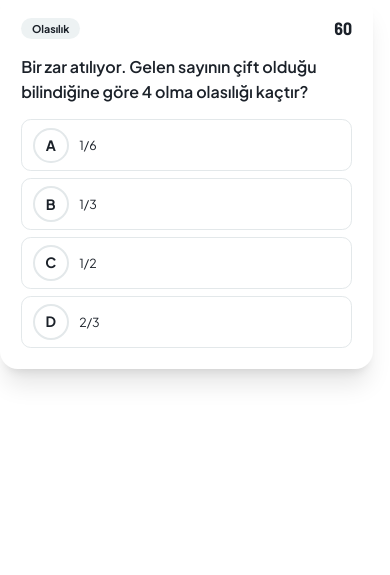
Test: MicroQuizPanel › marks a wrong choice and the correct option
Click the button "D 2/3": (51, 322) [21,296,352,348]
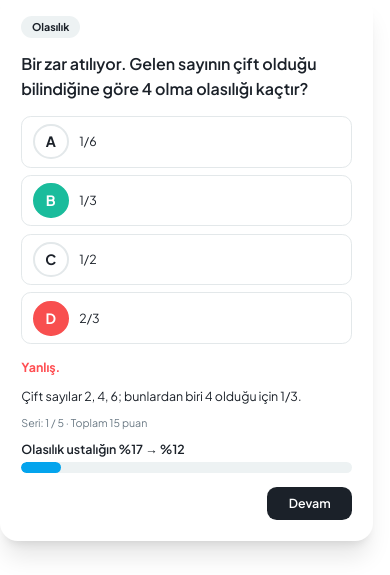
Now the text "Yanlış." is shown, box [21,359,60,375]
